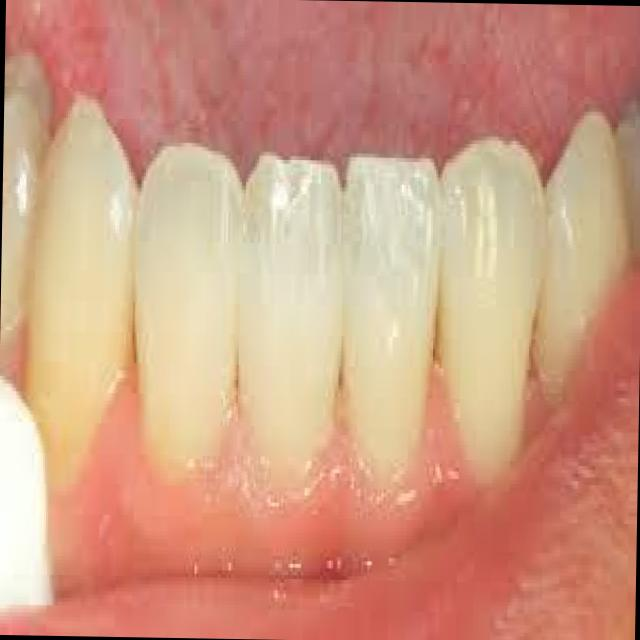Tooth: (27, 91, 139, 491), (133, 142, 245, 470), (440, 136, 547, 479), (239, 151, 345, 487), (344, 153, 442, 470), (533, 108, 631, 400), (0, 55, 51, 334)
